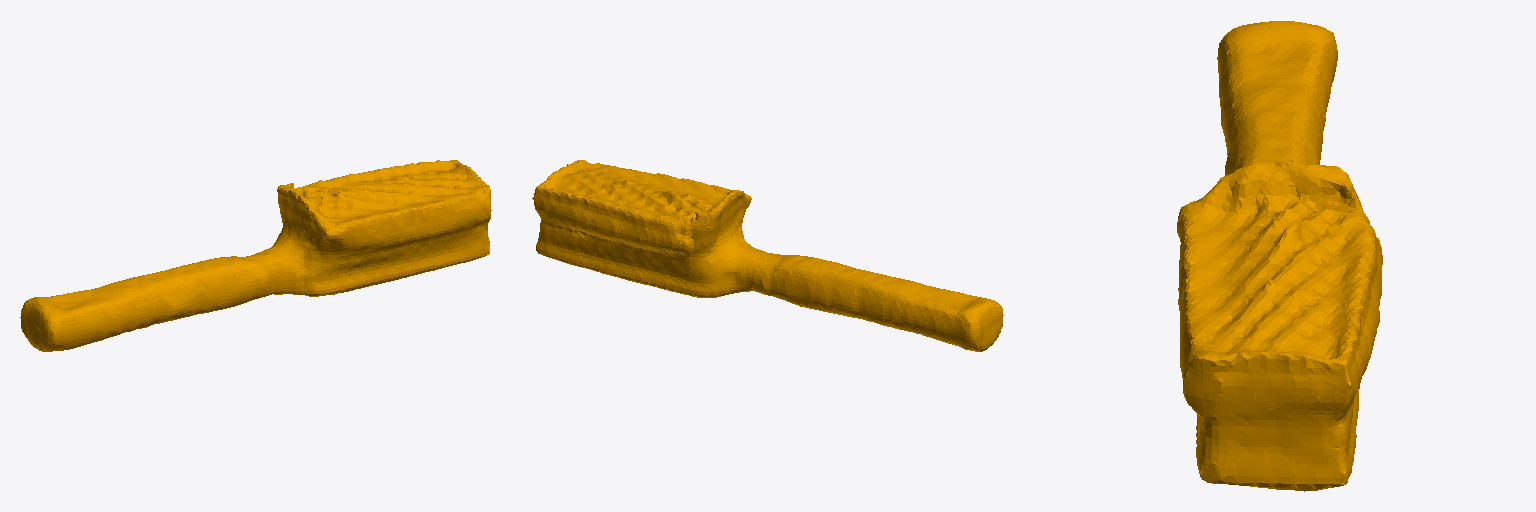
robot.urdf — model.urdf:
<?xml version="1.0" ?>
        <robot name="model.urdf">
        <link name="baseLink">
            <contact>
                <lateral_friction value="0.8"/>
                <rolling_friction value="0.001"/>
                <contact_cfm value="0.0"/>
                <contact_erp value="1.0"/>
            </contact>
            <inertial>
                <origin xyz="0.05 0.0 0.0" rpy="0 0 0"/>
                <mass value="0.085"/>
                <inertia ixx="0.001" ixy="0" ixz="0" iyy="0.001" iyz="0" izz="0.001"/>
            </inertial>
            <visual>
            <geometry>
                <mesh filename="hairbrush.obj" scale="1 1 1"/>
            </geometry>
            <!-- The following material makes the object white in Isaac Gym, so we comment it out.
            <material name="white"> <color rgba="1. 1. 1. 1."/> </material>
            -->
            </visual>
            <collision>
            <geometry>
                <mesh filename="hairbrush.obj" scale="1 1 1"/>
            </geometry>
            </collision>
        </link>
        </robot>

--- Facts derived from the render (not from the file) ---
Views: 3 orthographic renders of the robot side by side, from view 1: azimuth 30°, elevation 25°; view 2: azimuth 150°, elevation 25°; view 3: azimuth 270°, elevation 25°.
Model model.urdf with 1 links and 0 joints (none), rooted at baseLink, posed every joint at zero.
Visible links, largest first — view 1: baseLink; view 2: baseLink; view 3: baseLink.
Link boxes in pixels (<box>): baseLink: <box>20,160,491,351</box>; baseLink: <box>532,160,1003,351</box>; baseLink: <box>1177,21,1382,491</box>.
Bounding box of the posed robot: 0.2336 × 0.0505 × 0.0487 m (x, y, z).
1 mesh visuals loaded from 1 distinct referenced files (1 OBJ).
